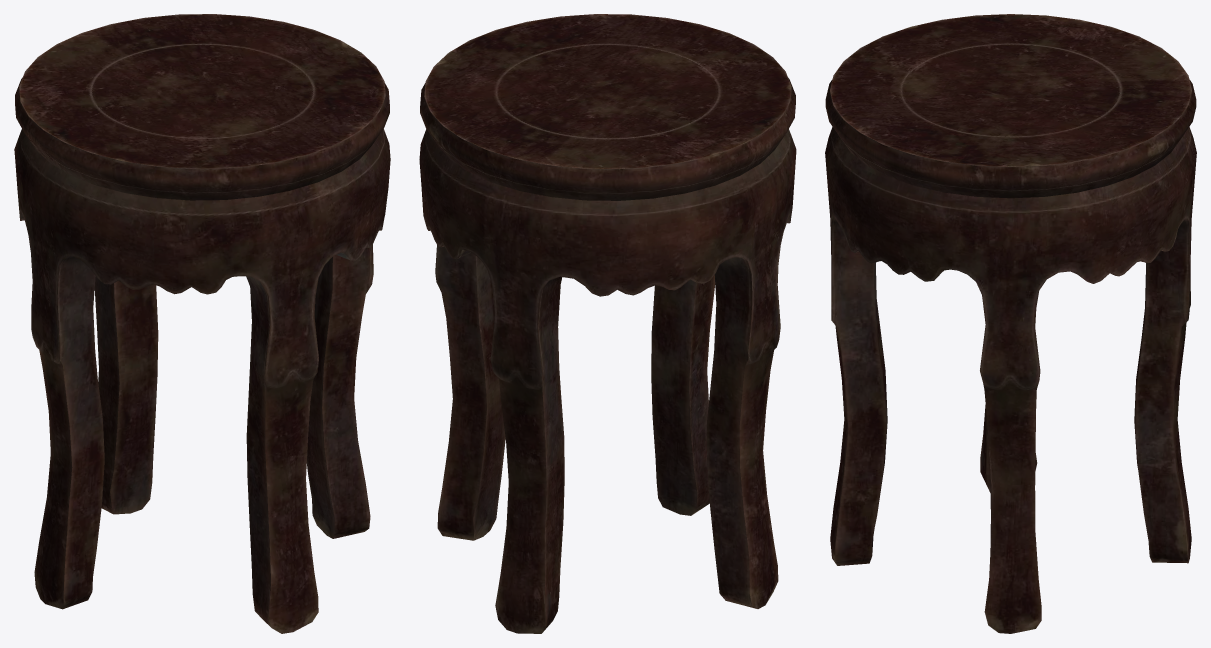
The model's file is WoodenTable_02.glb.
3 renders of one model, left to right at view 1: azimuth 30°, elevation 25°; view 2: azimuth 150°, elevation 25°; view 3: azimuth 270°, elevation 25°, orthographic.
Parts seen in each view (by area): view 1: WoodenTable_02; view 2: WoodenTable_02; view 3: WoodenTable_02.
Boxes of the visible parts, box(x1,y1,x2,y2) form: WoodenTable_02: box(14, 14, 390, 633); WoodenTable_02: box(419, 14, 796, 633); WoodenTable_02: box(825, 14, 1196, 633).
Bounding box in the file's own units: 0.3007 × 0.4177 × 0.3007.
Materials: 1 (1 with a texture image).
